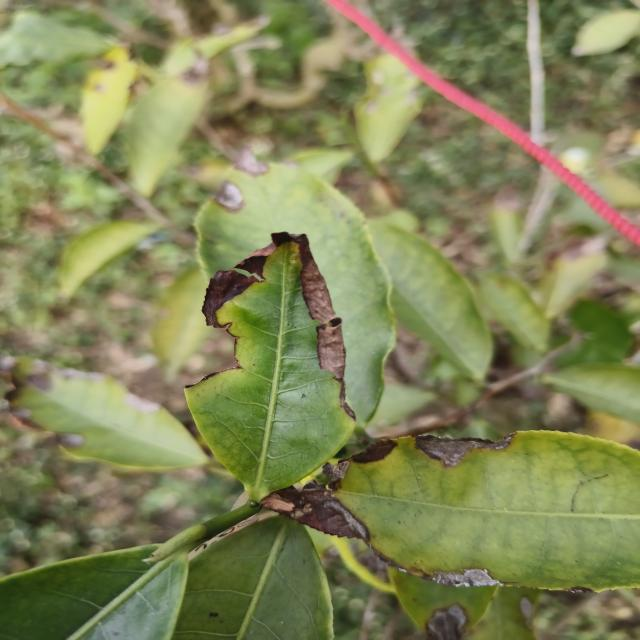Leaf: (266, 431, 640, 590), (195, 163, 395, 426), (185, 232, 355, 501), (10, 357, 208, 469), (172, 516, 333, 640), (371, 219, 493, 381), (0, 545, 188, 640), (125, 60, 207, 197), (60, 221, 158, 297), (354, 54, 422, 163), (151, 266, 212, 382), (0, 11, 114, 68), (80, 46, 137, 155), (542, 363, 640, 423), (480, 273, 550, 352), (572, 9, 640, 56)
